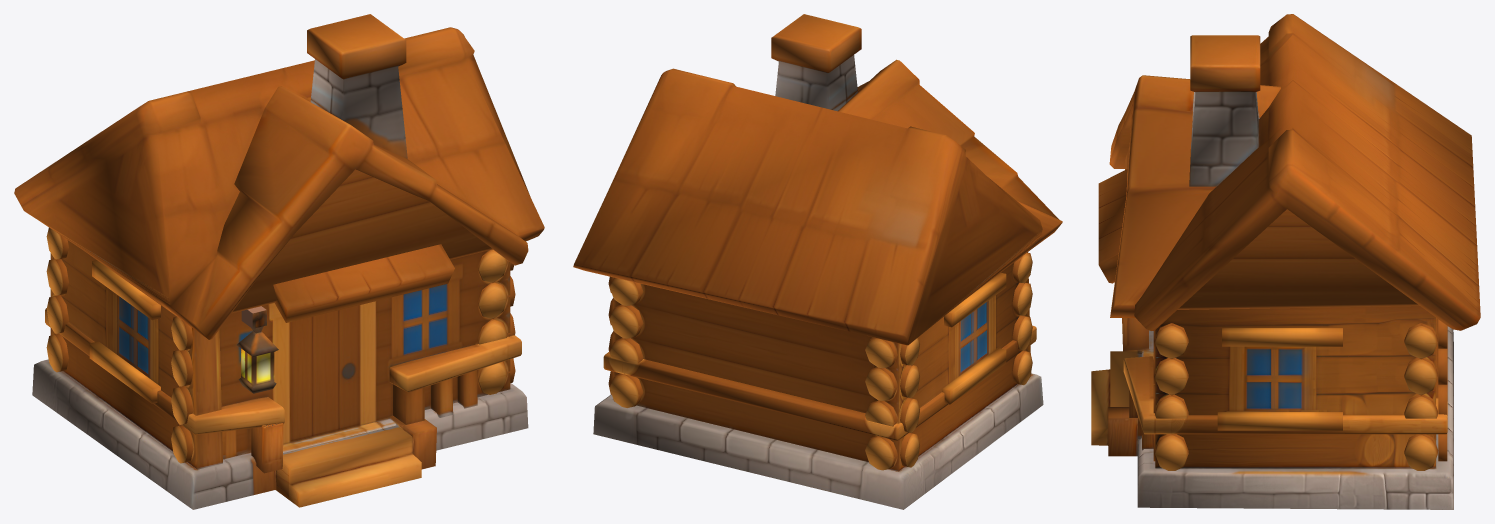
The model's file is cabin.glb.
3 views of the same model, side by side, from view 1: azimuth 30°, elevation 25°; view 2: azimuth 150°, elevation 25°; view 3: azimuth 270°, elevation 25° (orthographic). The views are drawn at different scales.
Parts seen in each view (by area): view 1: cabin; view 2: cabin; view 3: cabin.
Part boxes in pixels (left/top/right/bottom): cabin: left=14, top=14, right=544, bottom=509; cabin: left=573, top=14, right=1062, bottom=509; cabin: left=1091, top=14, right=1480, bottom=509.
Size of what is drawn, in the model's own units: 4.79 by 4.95 by 4.42.
Materials: 1 (1 with a texture image).
